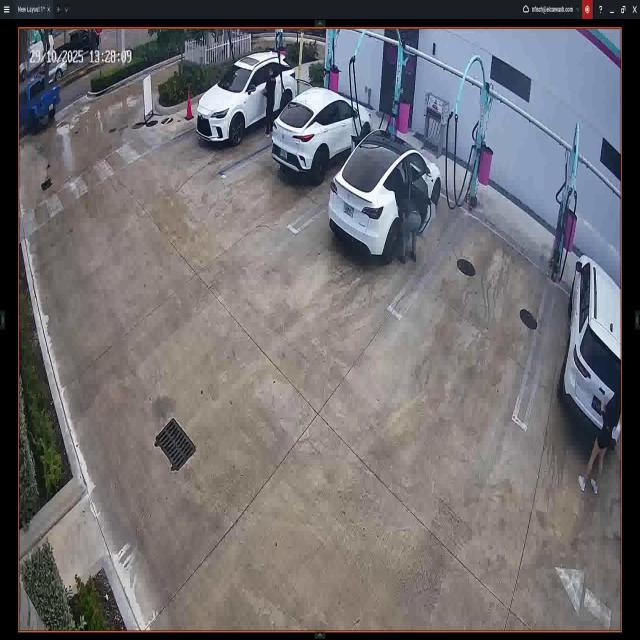Car: (330, 133, 443, 276), (563, 250, 619, 443), (199, 55, 296, 146), (273, 92, 370, 176), (21, 77, 60, 140)
